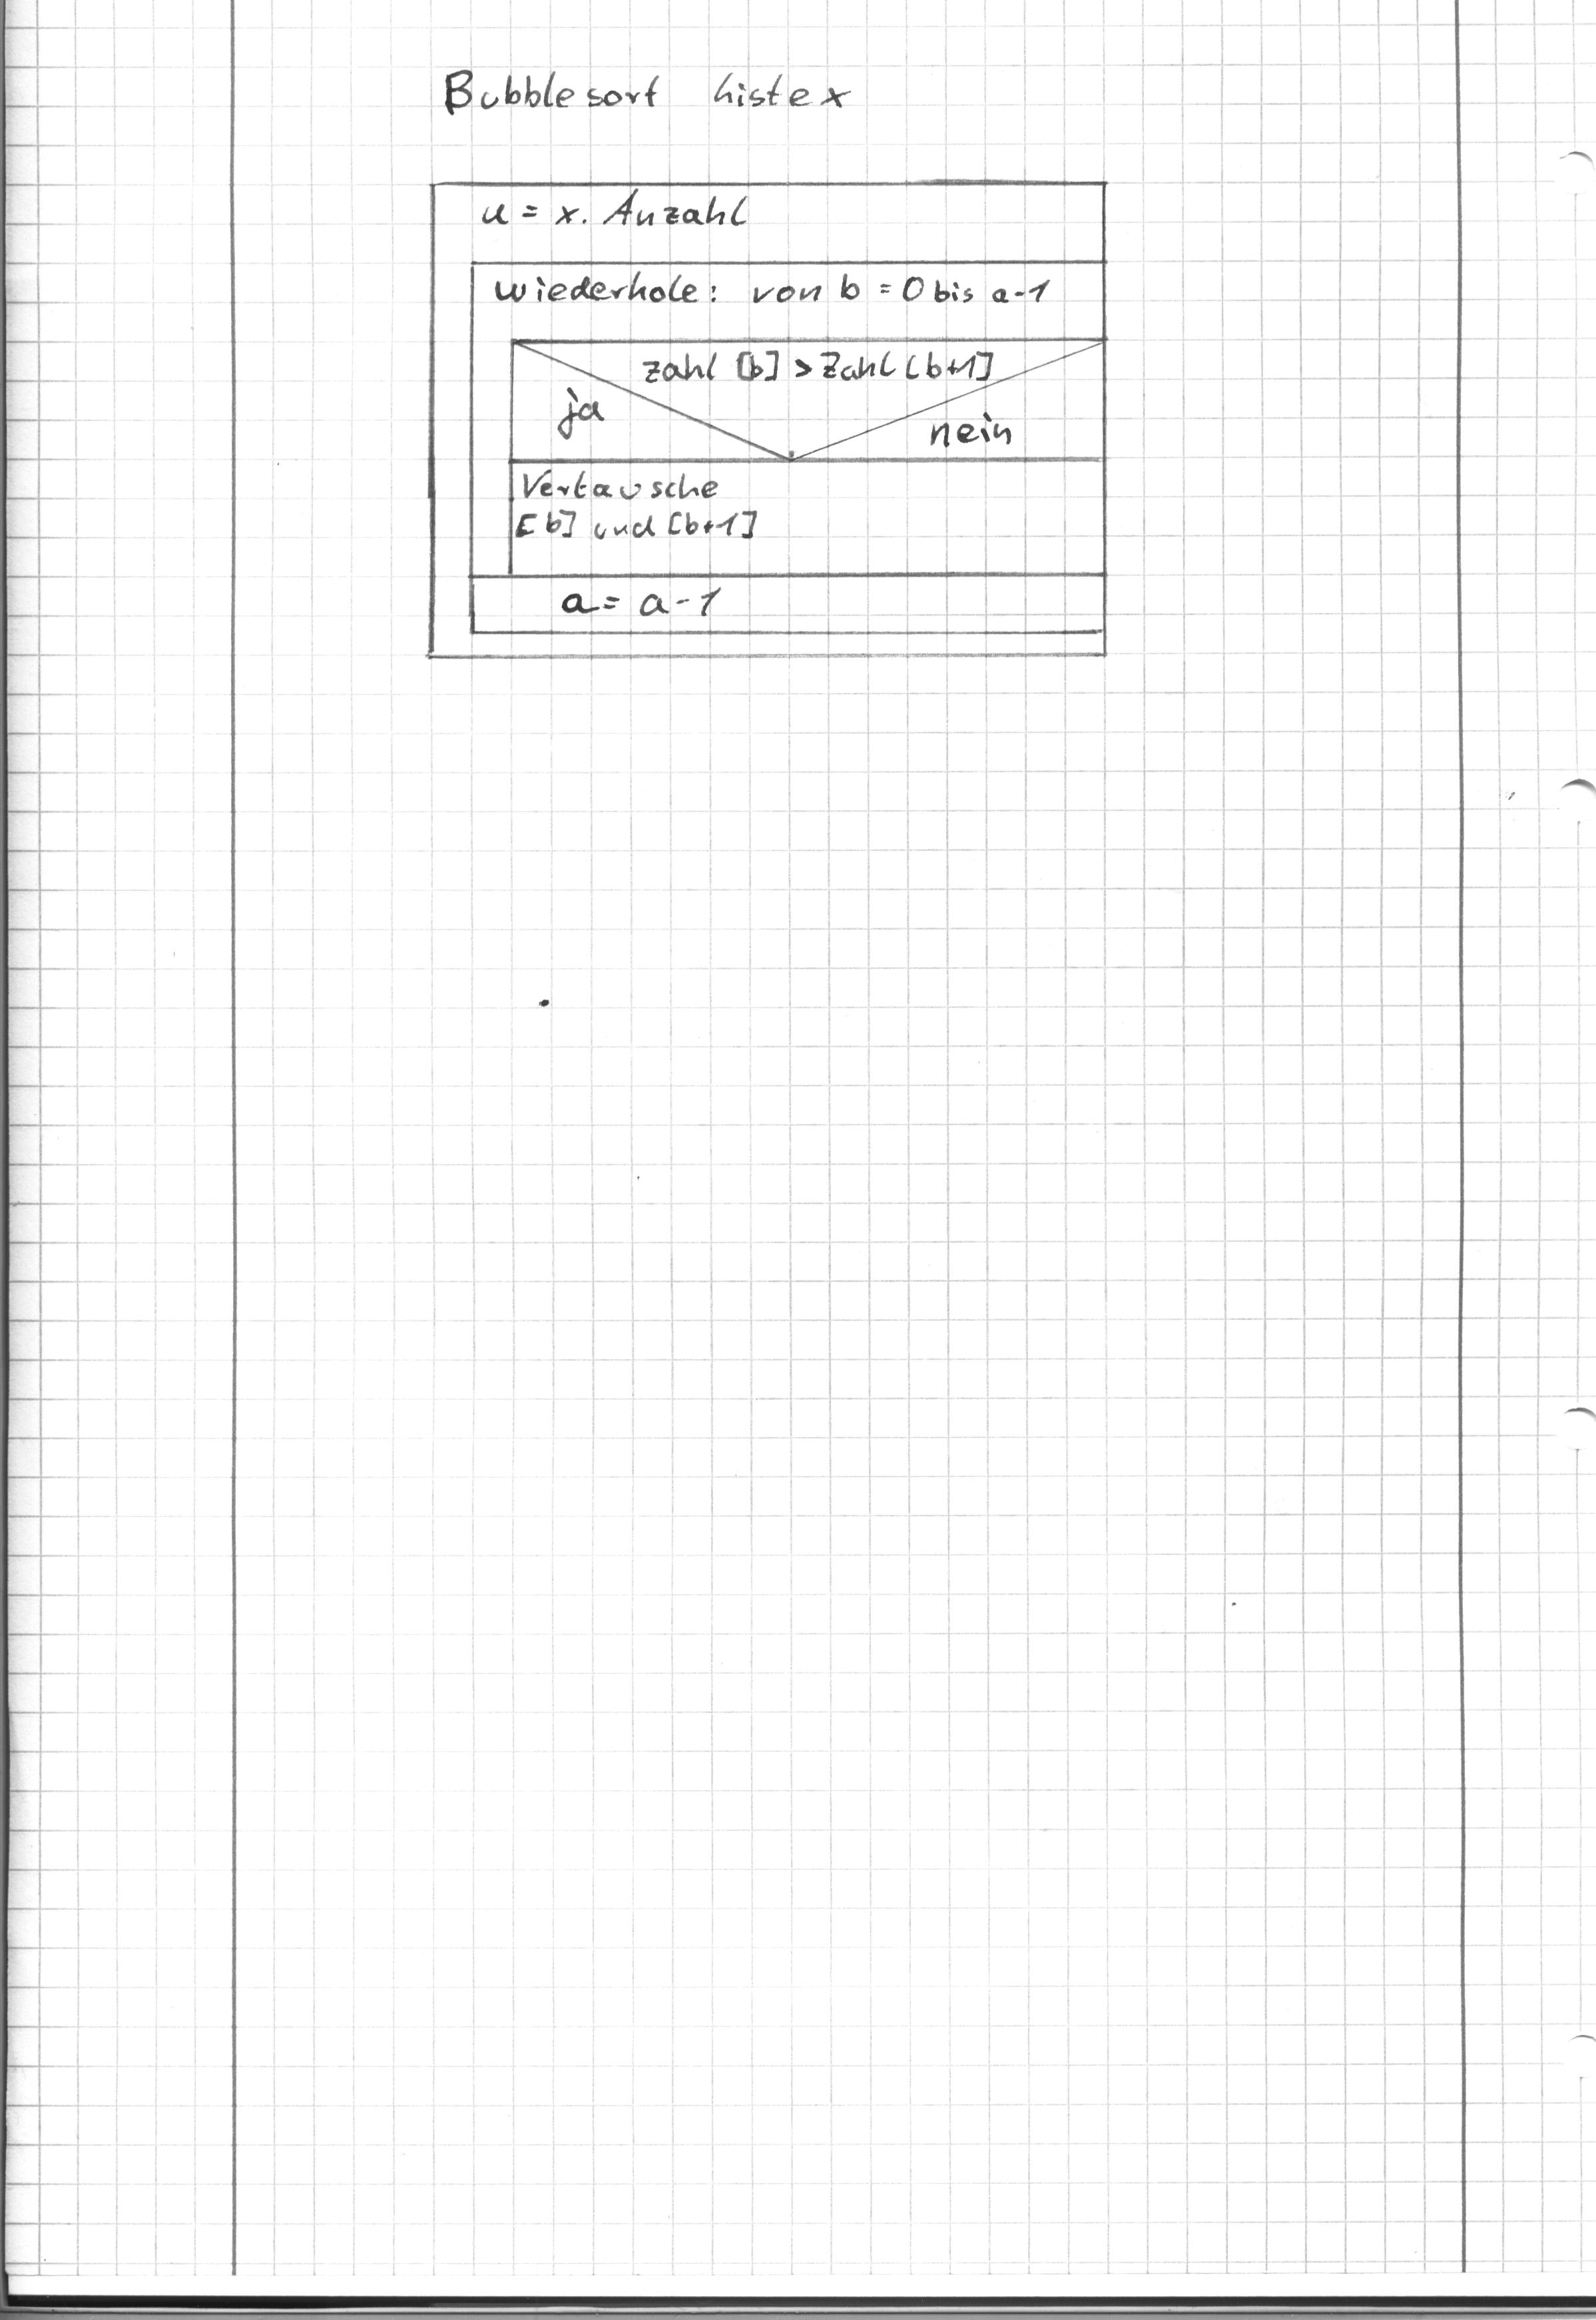word: (469, 172, 1070, 328), (426, 36, 866, 149), (497, 449, 787, 563), (622, 331, 1012, 400), (535, 560, 747, 665), (906, 392, 1038, 477), (528, 366, 631, 457)
